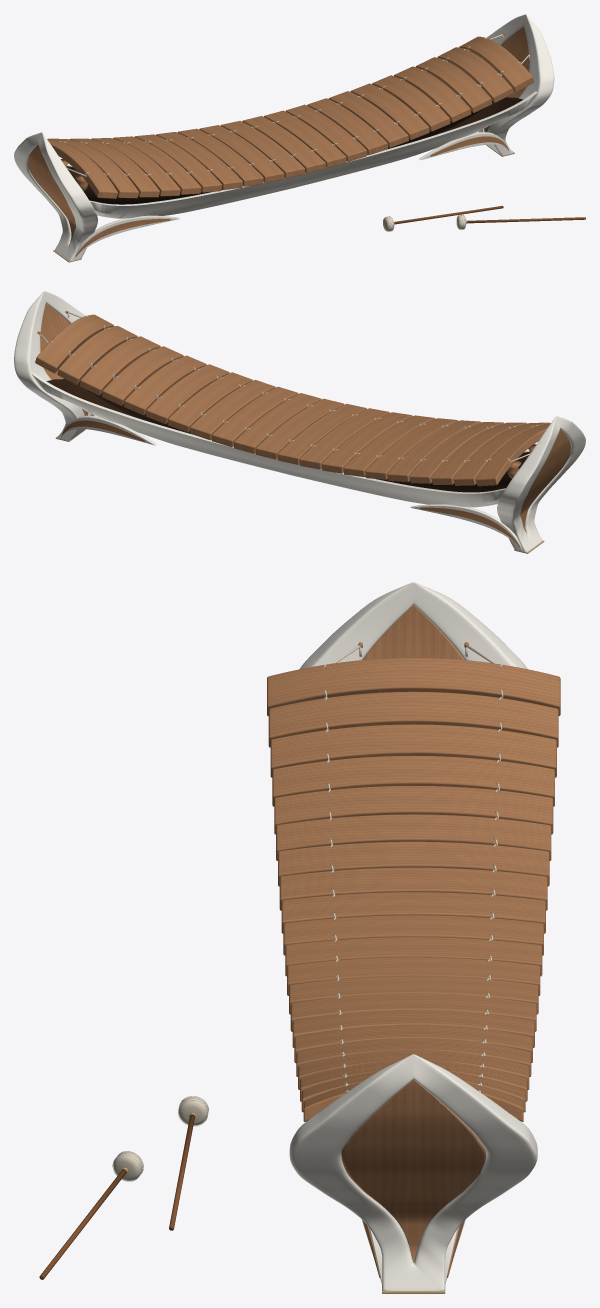
File: ranat-modern-v6.glb
The picture shows the model from 3 angles, top to bottom: view 1: azimuth 30°, elevation 25°; view 2: azimuth 150°, elevation 25°; view 3: azimuth 270°, elevation 25°; orthographic projection. The views are drawn at different scales.
Parts seen in each view (by area): view 1: O5 | End_Frame, O5 | Resonator_Shell, O5 | End_Wood_Insert, bar_20, bar_19, bar_18, bar_17, bar_16, bar_15, bar_14, bar_13, bar_12 (+17 smaller); view 2: O5 | End_Frame, O5 | Resonator_Shell, O5 | End_Wood_Insert, bar_20, bar_19, bar_18, bar_17, bar_16, bar_15, bar_14, bar_13, bar_12 (+15 smaller); view 3: O5 | End_Frame, O5 | End_Wood_Insert, bar_00, bar_01, bar_02, bar_03, bar_04, bar_05, bar_06, bar_07, bar_08, bar_09 (+11 smaller).
Boxes of the visible parts, x1,y1,x2,y2 form: O5 | End_Frame: (14,14,554,261); O5 | Resonator_Shell: (67,91,537,218); O5 | End_Wood_Insert: (28,26,529,242); bar_20: (459,36,534,91); bar_19: (437,47,513,102); bar_18: (415,57,492,112); bar_17: (394,66,471,122); bar_16: (372,75,450,131); bar_15: (350,83,429,139); bar_14: (328,91,408,147); bar_13: (307,98,388,155); bar_12: (285,104,367,161); O5 | End_Frame: (14,291,585,552); O5 | Resonator_Shell: (32,372,529,507); O5 | End_Wood_Insert: (40,303,570,532); bar_20: (35,314,114,373); bar_19: (57,326,137,384); bar_18: (79,336,160,395); bar_17: (101,346,183,405); bar_16: (123,355,206,415); bar_15: (145,364,229,424); bar_14: (167,372,252,432); bar_13: (189,380,275,440); bar_12: (211,386,298,447); O5 | End_Frame: (289,582,537,1290); O5 | End_Wood_Insert: (341,605,485,1262); bar_00: (267,657,560,716); bar_01: (268,691,558,747); bar_02: (270,724,556,777); bar_03: (272,755,554,806); bar_04: (274,785,553,834); bar_05: (276,814,551,860); bar_06: (278,841,549,886); bar_07: (279,867,547,910); bar_08: (281,892,545,933); bar_09: (283,915,543,955).
Bounding box in the file's own units: 1.4 × 0.3497 × 0.6389.
Materials: 7 (2 with a texture image).
